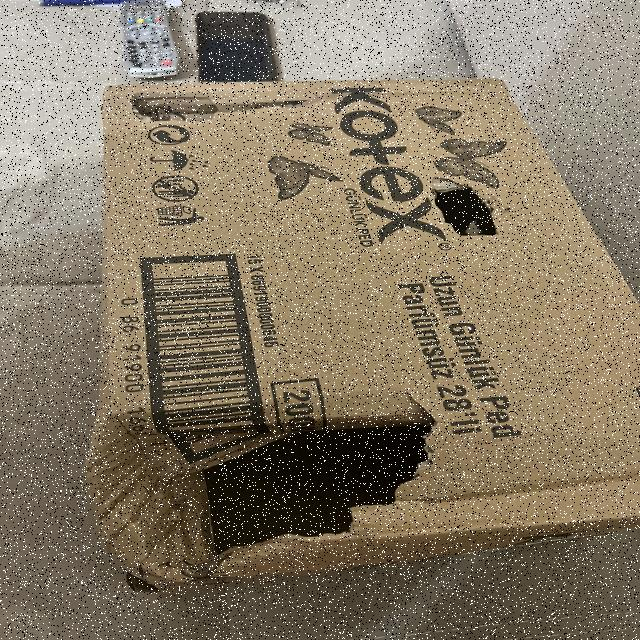damaged: (71, 76, 639, 608), (78, 382, 454, 591), (112, 87, 343, 142), (400, 165, 531, 252)
